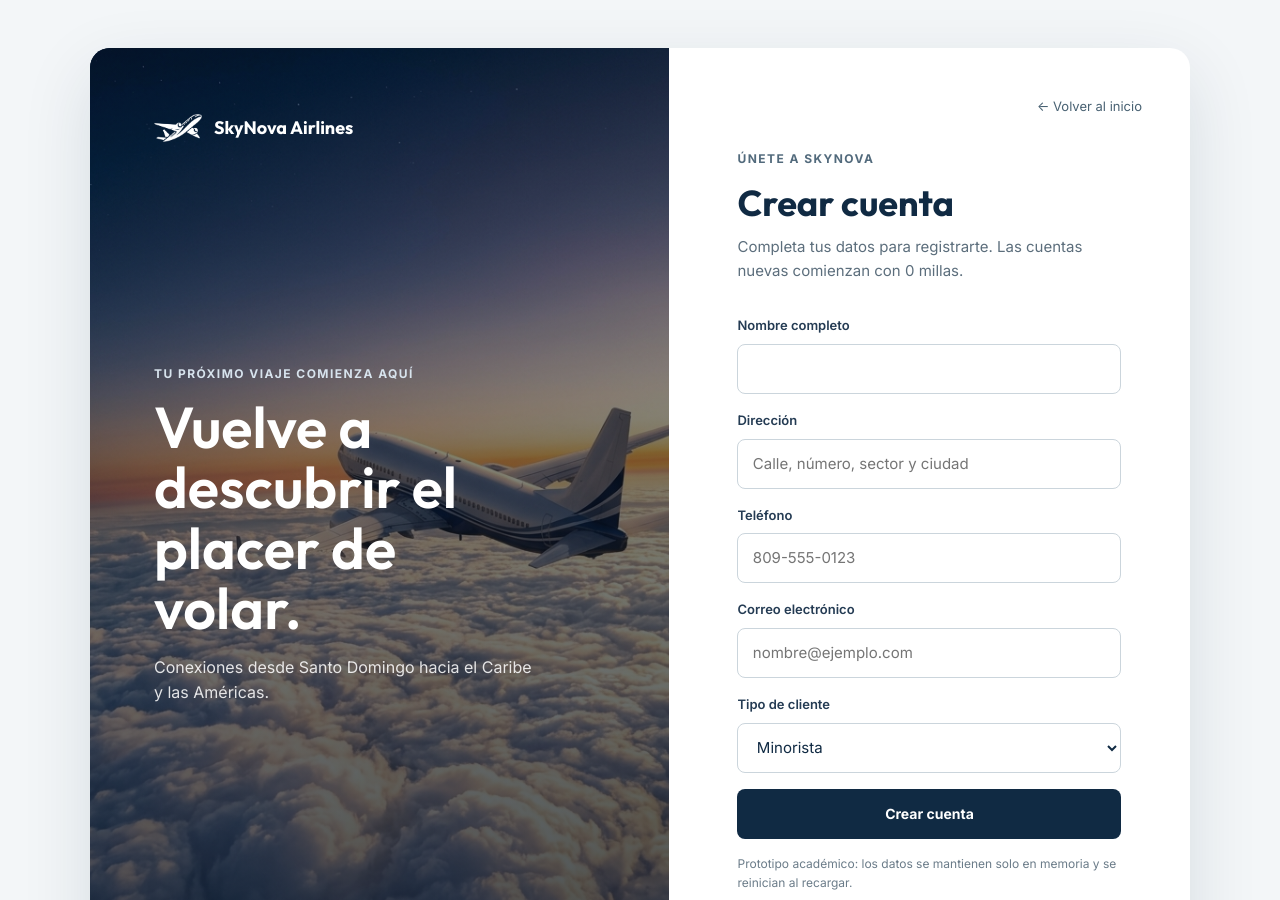
Test: LoginPage — CU-02 registration › requires every academic field before creating an account
Click the button "Crear cuenta" at (930, 814), box [738,789,1122,839]
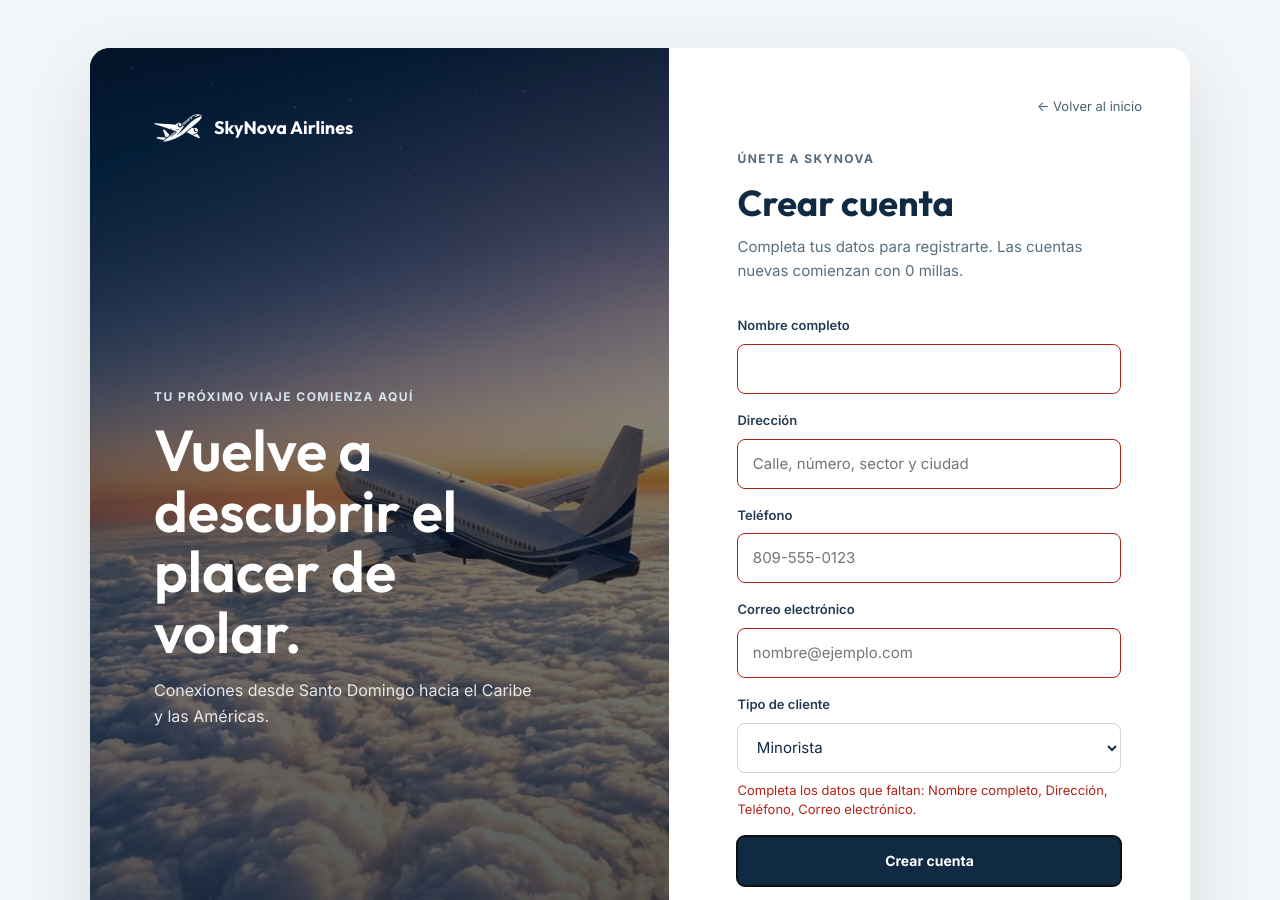
Expected: the text "Completa los datos que faltan: Nombre completo, Dirección, Teléfono, Correo electrónico." is shown, [738,782,1108,818]
